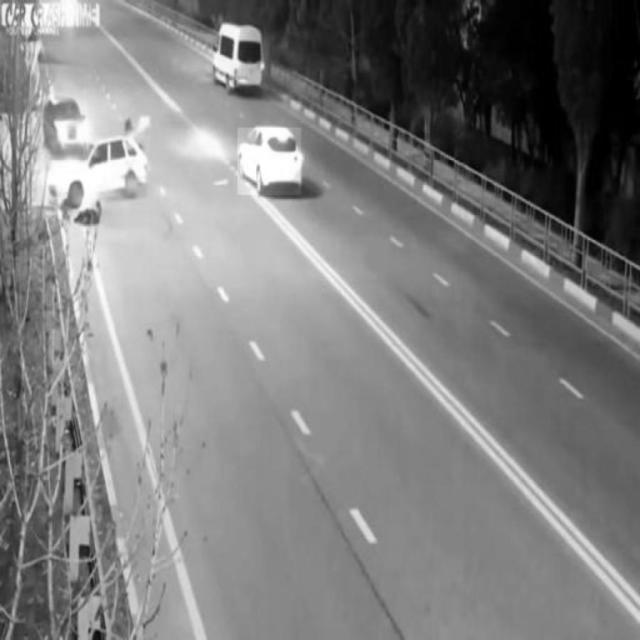vehicle: (48, 134, 150, 202), (238, 127, 302, 195), (218, 26, 264, 86), (45, 101, 87, 153)
